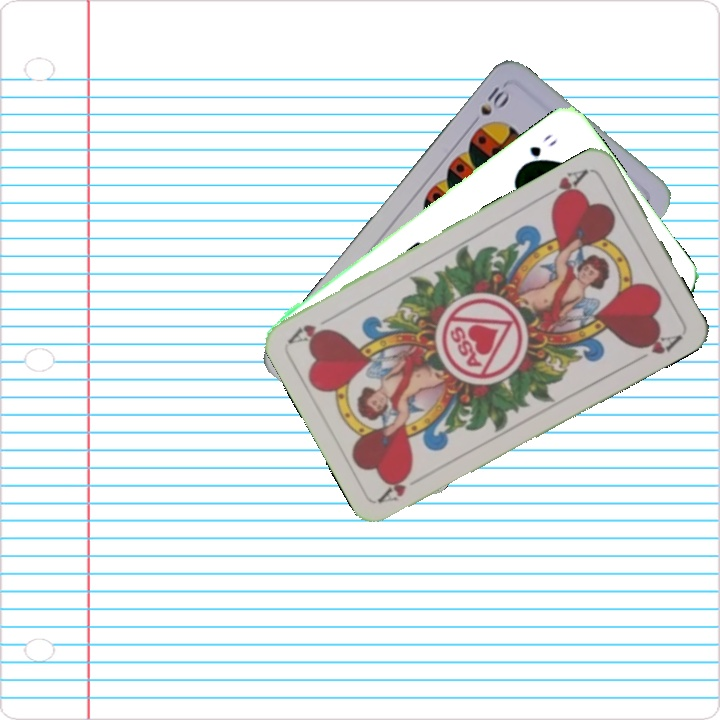GO: (517, 130, 560, 171)
HA: (375, 467, 430, 505), (548, 165, 591, 207)
S10: (465, 81, 513, 130)
